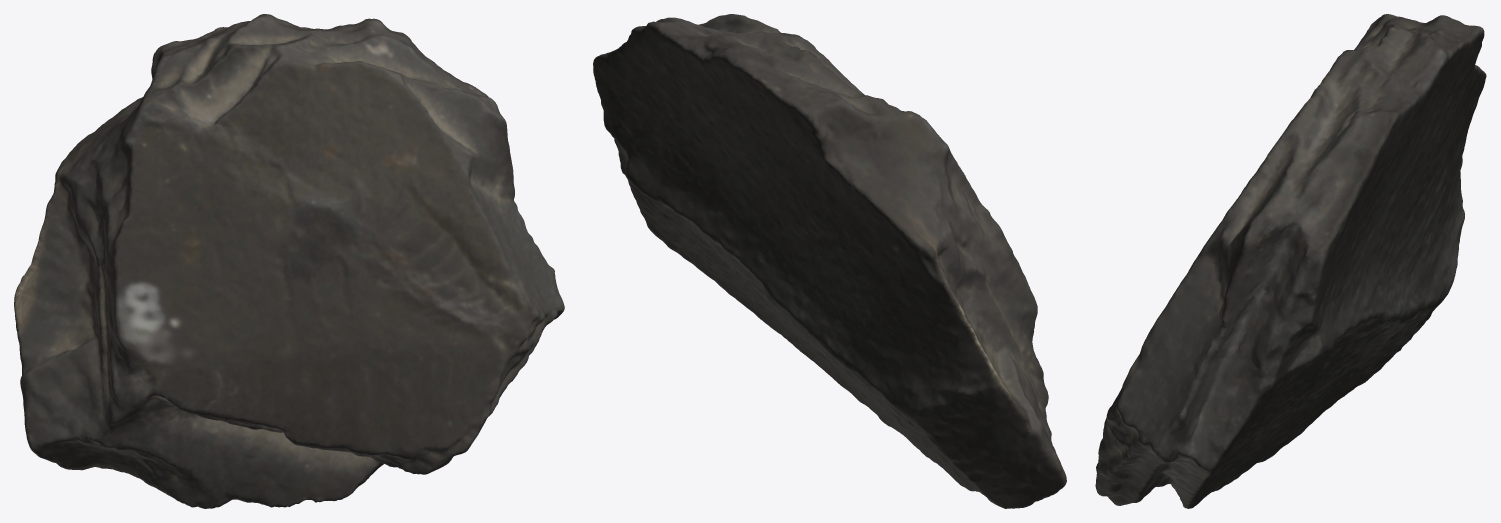
File: shale.glb
The picture shows the model from 3 angles, left to right: view 1: azimuth 30°, elevation 25°; view 2: azimuth 150°, elevation 25°; view 3: azimuth 270°, elevation 25°; orthographic projection. The views are drawn at different scales.
Visible parts, largest first — view 1: Object_2; view 2: Object_2; view 3: Object_2.
Part boxes in pixels (box(x1,y1,x2,y2)): Object_2: box(14, 14, 564, 508); Object_2: box(593, 14, 1066, 508); Object_2: box(1095, 14, 1486, 508).
Bounding box in the file's own units: 0.12 × 0.105 × 0.0762.
1 material, 1 textured.
